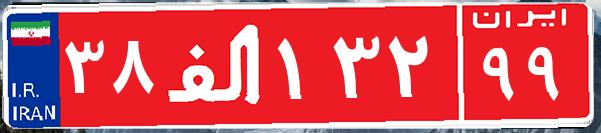1: (273, 28, 330, 110)
2: (385, 28, 445, 110)
3: (330, 28, 385, 110), (57, 26, 110, 107)
8: (110, 28, 158, 105)
9: (475, 38, 525, 113), (525, 38, 570, 115)
الف: (158, 15, 273, 115)
